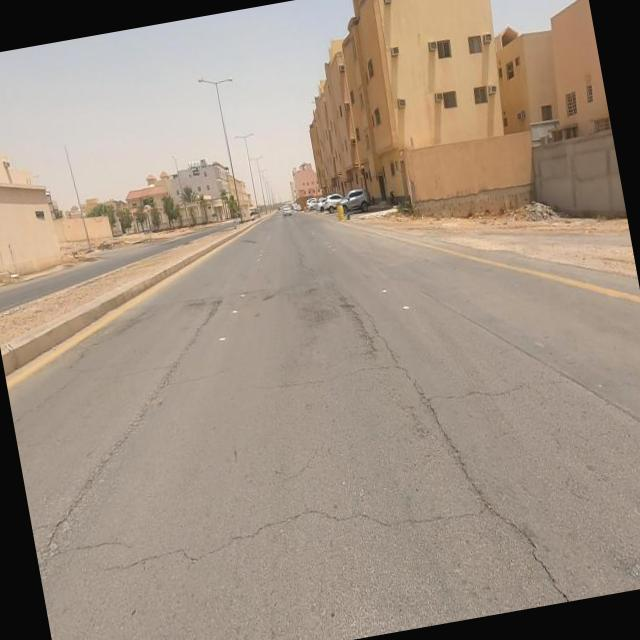debris: (502, 161, 576, 264)
